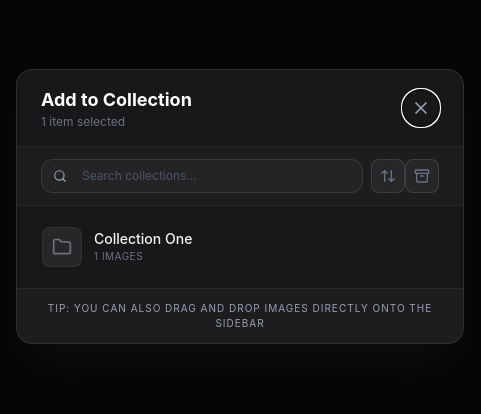
AddToCollectionModal thumbnail hydration states › filters by search and shows the empty state
The image size is (481, 414).
Type "missing" into the field with placeholder "Search collections..." at (202, 176), box [41,158,363,192]
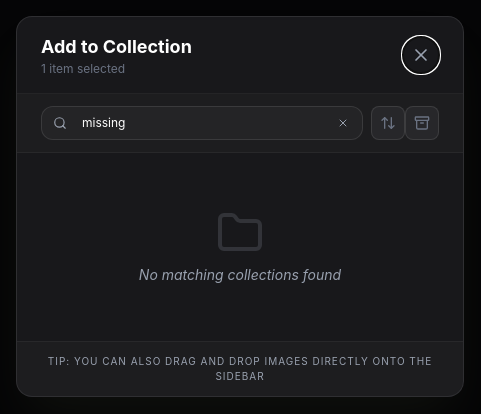
Expected: the text "No matching collections found" is shown, [139,264,341,284]
